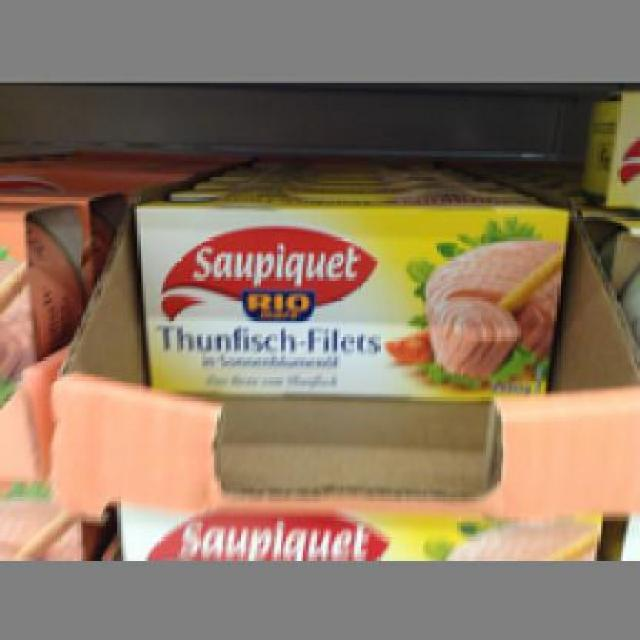Fish: (128, 188, 574, 394)
